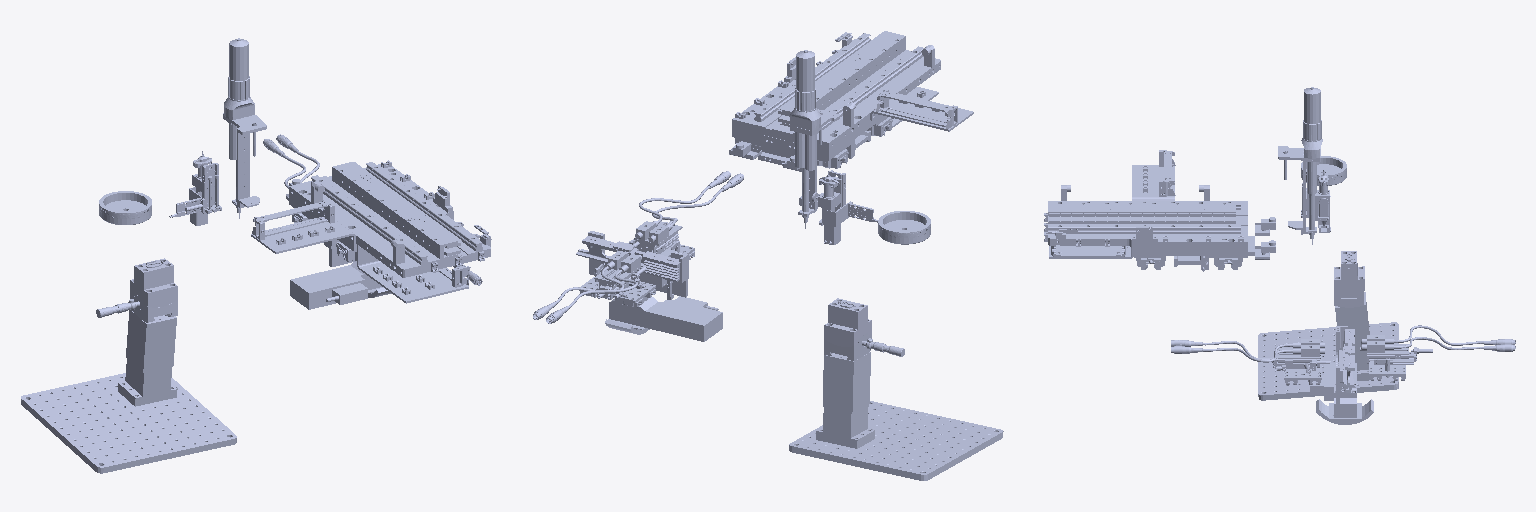
--- Facts derived from the render (not from the file) ---
The picture shows the robot from 3 angles, left to right: view 1: azimuth 30°, elevation 25°; view 2: azimuth 150°, elevation 25°; view 3: azimuth 270°, elevation 25°; orthographic projection.
Robot: roboter_zusammenbau — 27 links, 26 joints (5 revolute, 11 prismatic, 10 fixed); root link world; default pose: every joint at zero.
Visible links, largest first — view 1: X_Axis, Gonio_Base_Rigth, EQ, Gonio_Left_Stage_1_Upper, Gripper_Rot_Plate, Nest, Glue_Cartridge, Gonio_Right_Stage_1_Upper, Glue_Cartridge_Flap, UV_Module_Left; view 2: X_Axis, Gonio_Base_Rigth, EQ, Gonio_Left_Stage_1_Upper, UV_Module_Right, UV_Module_Left, Gonio_Right_Mount_Upper, Gripper_Rot_Plate, Nest, Gonio_Right_Mount_Lower, UV_Cart_Left, Glue_Cartridge_Flap (+3 smaller); view 3: X_Axis, Gonio_Base_Rigth, EQ, Gonio_Left_Stage_1_Upper, UV_Module_Left, UV_Module_Right, UV_Cart_Left, UV_Cart_Right, Nest, Gonio_Right_Mount_Lower, Gripper_Rot_Plate, Glue_Cartridge (+2 smaller).
Boxes of the visible links, x1,y1,x2,y2 form: X_Axis: [251, 160, 491, 303]; Gonio_Base_Rigth: [21, 310, 236, 473]; EQ: [223, 38, 266, 218]; Gonio_Left_Stage_1_Upper: [290, 261, 391, 309]; Gripper_Rot_Plate: [99, 191, 151, 224]; Nest: [130, 258, 177, 299]; Glue_Cartridge: [192, 151, 221, 213]; Gonio_Right_Stage_1_Upper: [96, 293, 177, 322]; Glue_Cartridge_Flap: [169, 187, 207, 225]; UV_Module_Left: [263, 134, 319, 188]; X_Axis: [729, 31, 973, 171]; Gonio_Base_Rigth: [789, 352, 1003, 480]; EQ: [790, 50, 839, 228]; Gonio_Left_Stage_1_Upper: [605, 296, 722, 341]; UV_Module_Right: [635, 171, 743, 252]; UV_Module_Left: [533, 251, 641, 323]; Gonio_Right_Mount_Upper: [576, 236, 680, 299]; Gripper_Rot_Plate: [878, 211, 930, 244]; Nest: [824, 298, 871, 338]; Gonio_Right_Mount_Lower: [588, 231, 688, 304]; UV_Cart_Left: [580, 264, 655, 307]; Glue_Cartridge_Flap: [824, 201, 877, 244]; X_Axis: [1044, 150, 1275, 271]; Gonio_Base_Rigth: [1258, 292, 1398, 400]; EQ: [1278, 87, 1322, 244]; Gonio_Left_Stage_1_Upper: [1310, 363, 1373, 424]; UV_Module_Left: [1361, 325, 1515, 363]; UV_Module_Right: [1171, 339, 1324, 367]; UV_Cart_Left: [1360, 347, 1432, 380]; UV_Cart_Right: [1258, 354, 1330, 384]; Nest: [1334, 251, 1364, 285]; Gonio_Right_Mount_Lower: [1334, 326, 1356, 404]; Gripper_Rot_Plate: [1301, 156, 1346, 185]; Glue_Cartridge: [1301, 170, 1330, 225].
Size in the robot's own frame: 0.8148 by 1 by 0.7671 metres.
17 mesh visuals loaded from 26 distinct referenced files (17 binary STL); not drawn: 9 (reference not matched to a file when rendering).

URDF robot description (roboter_zusammenbau):
<?xml version="1.0" encoding="utf-8"?>
<!-- This URDF was automatically created by SolidWorks to URDF Exporter! Originally created by Stephen Brawner ([email redacted]) 
     Commit Version: 1.6.0-1-g15f4949  Build Version: 1.6.7594.29634
     For more information, please see http://wiki.ros.org/sw_urdf_exporter -->
<robot
  name="roboter_zusammenbau">

  <link name="world">
  </link>
  
  <joint name="world_joint" type="fixed">
    <parent link="world"/>
    <child link="base_link"/>
    <origin
      xyz="0 0 0"
      rpy="0 0 0" />
  </joint>

  <link
    name="base_link">
    <inertial>
      <origin
        xyz="0.625821801363778 0.570133136306886 0.131114542394431"
        rpy="0 0 0" />
      <mass
        value="185.737269065976" />
      <inertia
        ixx="17.6891686329467"
        ixy="-0.000553953906476897"
        ixz="2.11795920498383E-05"
        iyy="19.5856182457273"
        iyz="0.00180194516552894"
        izz="36.6182068946149" />
    </inertial>
    <visual>
      <origin
        xyz="0 0 0"
        rpy="0 0 0" />
      <geometry>
        <mesh
          filename="package://roboter_zusammenbau/meshes/base_link.STL" />
      </geometry>
      <material
        name="">
        <color
          rgba="0.792156862745098 0.819607843137255 0.933333333333333 1" />
      </material>
    </visual>
    <collision>
      <origin
        xyz="0 0 0"
        rpy="0 0 0" />
      <geometry>
        <mesh
          filename="package://roboter_zusammenbau/meshes/base_link.STL" />
      </geometry>
    </collision>
  </link>
  <link
    name="X_Axis">
    <inertial>
      <origin
        xyz="0.16919895741484 -0.139025494621401 0.0270399805740182"
        rpy="0 0 0" />
      <mass
        value="3.40836170630821" />
      <inertia
        ixx="0.0248404376541355"
        ixy="-0.000748520694827292"
        ixz="6.13257340524014E-06"
        iyy="0.0088330828502041"
        iyz="-2.4288100595453E-05"
        izz="0.0333342630400324" />
    </inertial>
    <visual>
      <origin
        xyz="0 0 0"
        rpy="0 0 0" />
      <geometry>
        <mesh
          filename="package://roboter_zusammenbau/meshes/X_Axis.STL" />
      </geometry>
      <material
        name="">
        <color
          rgba="0.792156862745098 0.819607843137255 0.933333333333333 1" />
      </material>
    </visual>
    <collision>
      <origin
        xyz="0 0 0"
        rpy="0 0 0" />
      <geometry>
        <mesh
          filename="package://roboter_zusammenbau/meshes/X_Axis.STL" />
      </geometry>
    </collision>
  </link>
  <joint
    name="X_Axis_Joint"
    type="prismatic">
    <origin
      xyz="0.19 0.5545 0.56"
      rpy="0 0 0" />
    <parent
      link="base_link" />
    <child
      link="X_Axis" />
    <axis
      xyz="-1 0 0" />
    <limit
      lower="-0.745"
      upper="0.055"
      effort="100"
      velocity="0.05" />
  </joint>
  <link
    name="Y_Axis">
    <inertial>
      <origin
        xyz="0.0644731605204091 0.335953761487189 0.0959734258135516"
        rpy="0 0 0" />
      <mass
        value="5.14878388645621" />
      <inertia
        ixx="0.0689971056038874"
        ixy="-5.48415730832886E-06"
        ixz="0.000161589759460467"
        iyy="0.0347519976611458"
        iyz="-0.00648361648669565"
        izz="0.0562521130143104" />
    </inertial>
    <visual>
      <origin
        xyz="0 0 0"
        rpy="0 0 0" />
      <geometry>
        <mesh
          filename="package://roboter_zusammenbau/meshes/Y_Axis.STL" />
      </geometry>
      <material
        name="">
        <color
          rgba="0.792156862745098 0.819607843137255 0.933333333333333 1" />
      </material>
    </visual>
    <collision>
      <origin
        xyz="0 0 0"
        rpy="0 0 0" />
      <geometry>
        <mesh
          filename="package://roboter_zusammenbau/meshes/Y_Axis.STL" />
      </geometry>
    </collision>
  </link>
  <joint
    name="Y_Axis_Joint"
    type="prismatic">
    <origin
      xyz="0.1115 -0.39197 0.0625"
      rpy="0 0 0" />
    <parent
      link="X_Axis" />
    <child
      link="Y_Axis" />
    <axis
      xyz="0 -1 0" />
    <limit
      lower="-0.425"
      upper="0.2505"
      effort="100"
      velocity="0.05" />
  </joint>
  <link
    name="Z_Axis">
    <inertial>
      <origin
        xyz="0.0559367655146915 0.0443072297759754 -0.273189000382012"
        rpy="0 0 0" />
      <mass
        value="2.98745986427534" />
      <inertia
        ixx="0.0172466701344397"
        ixy="-1.43155994554038E-05"
        ixz="0.000234826510357996"
        iyy="0.0221649939209753"
        iyz="9.07350690414311E-05"
        izz="0.00613325660637595" />
    </inertial>
    <visual>
      <origin
        xyz="0 0 0"
        rpy="0 0 0" />
      <geometry>
        <mesh
          filename="package://roboter_zusammenbau/meshes/Z_Axis.STL" />
      </geometry>
      <material
        name="">
        <color
          rgba="0.792156862745098 0.819607843137255 0.933333333333333 1" />
      </material>
    </visual>
    <collision>
      <origin
        xyz="0 0 0"
        rpy="0 0 0" />
      <geometry>
        <mesh
          filename="package://roboter_zusammenbau/meshes/Z_Axis.STL" />
      </geometry>
    </collision>
  </link>
  <!---Gravity off-->
  <gazebo reference="Z_Axis">
    <turnGravityOff>true</turnGravityOff>
  </gazebo>
  <joint
    name="Z_Axis_Joint"
    type="prismatic">
    <origin
      xyz="-0.001 0.4962 0.28252"
      rpy="0 0 0" />
    <parent
      link="Y_Axis" />
    <child
      link="Z_Axis" />
    <axis
      xyz="0 0 -1" />
    <limit
      lower="-0.05262"
      upper="0.045"
      effort="100"
      velocity="0.5" />
  </joint>
  <link
    name="Gripper_Rot_Plate">
    <inertial>
      <origin
        xyz="2.01033481528334E-07 1.77069260361845E-07 -0.01642207657229"
        rpy="0 0 0" />
      <mass
        value="0.11029725831735" />
      <inertia
        ixx="8.79764941917046E-05"
        ixy="-1.83626185446397E-10"
        ixz="-1.48320232373882E-10"
        iyy="8.79759415900841E-05"
        iyz="-1.27560287248564E-10"
        izz="0.000165659871028386" />
    </inertial>
    <visual>
      <origin
        xyz="0 0 0"
        rpy="0 0 0" />
      <geometry>
        <mesh
          filename="package://roboter_zusammenbau/meshes/Gripper_Rot_Plate.STL" />
      </geometry>
      <material
        name="">
        <color
          rgba="0.792156862745098 0.819607843137255 0.933333333333333 1" />
      </material>
    </visual>
    <collision>
      <origin
        xyz="0 0 0"
        rpy="0 0 0" />
      <geometry>
        <mesh
          filename="package://roboter_zusammenbau/meshes/Gripper_Rot_Plate.STL" />
      </geometry>
    </collision>
  </link>
  <!---Gravity off-->
  <gazebo reference="Gripper_Rot_Plate">
    <turnGravityOff>true</turnGravityOff>
  </gazebo>
  <joint
    name="Gripper_Rot_Plate_Joint"
    type="revolute">
    <origin
      xyz="0.00750000000000206 0.0900000062570289 -0.337000000000001"
      rpy="0 0 0" />
    <parent
      link="Z_Axis" />
    <child
      link="Gripper_Rot_Plate" />
    <axis
      xyz="0 0 1" />
    <limit
      lower="0"
      upper="3.14"
      effort="100"
      velocity="0.1" />
  </joint>
  <link
    name="Gripper">
    <inertial>
      <origin
        xyz="0.000135108807628959 -1.05111383998935E-05 -0.0292448632131204"
        rpy="0 0 0" />
      <mass
        value="0.127647896986229" />
      <inertia
        ixx="2.5142711578718E-05"
        ixy="-1.59474432850184E-08"
        ixz="3.35250198835353E-09"
        iyy="2.54173373628528E-05"
        iyz="4.55516572822246E-10"
        izz="4.13581383274998E-05" />
    </inertial>
    <visual>
      <origin
        xyz="0 0 0"
        rpy="0 0 0" />
      <geometry>
        <mesh
          filename="package://roboter_zusammenbau/meshes/Gripper.STL" />
      </geometry>
      <material
        name="">
        <color
          rgba="0.792156862745098 0.819607843137255 0.933333333333333 1" />
      </material>
    </visual>
    <collision>
      <origin
        xyz="0 0 0"
        rpy="0 0 0" />
      <geometry>
        <mesh
          filename="package://roboter_zusammenbau/meshes/Gripper.STL" />
      </geometry>
    </collision>
  </link>
  <!---Gravity off-->
  <gazebo reference="Gripper">
    <turnGravityOff>true</turnGravityOff>
  </gazebo>
  <joint
    name="Gripper_Joint"
    type="fixed">
    <origin
      xyz="0 0 -0.0255"
      rpy="0 0 0" />
    <parent
      link="Gripper_Rot_Plate" />
    <child
      link="Gripper" />
    <axis
      xyz="0 0 0" />
  </joint>
  <link
    name="Glue_Cartridge_Flap">
    <inertial>
      <origin
        xyz="0.0700781843320345 0.0170691077164344 -0.0129807443134489"
        rpy="0 0 0" />
      <mass
        value="0.0179277924431147" />
      <inertia
        ixx="4.17419773394052E-06"
        ixy="1.29835566651963E-07"
        ixz="-6.29537316660302E-08"
        iyy="5.03325262650482E-06"
        iyz="-9.02306176061517E-09"
        izz="4.1188843203633E-06" />
    </inertial>
    <visual>
      <origin
        xyz="0 0 0"
        rpy="0 0 0" />
      <geometry>
        <mesh
          filename="package://roboter_zusammenbau/meshes/Glue_Cartridge_Flap.STL" />
      </geometry>
      <material
        name="">
        <color
          rgba="0.792156862745098 0.819607843137255 0.933333333333333 1" />
      </material>
    </visual>
    <collision>
      <origin
        xyz="0 0 0"
        rpy="0 0 0" />
      <geometry>
        <mesh
          filename="package://roboter_zusammenbau/meshes/Glue_Cartridge_Flap.STL" />
      </geometry>
    </collision>
  </link>
  <!---Gravity off-->
  <gazebo reference="Glue_Cartridge_Flap">
    <turnGravityOff>true</turnGravityOff>
  </gazebo>
  <joint
    name="Glue_Cartridge_Flap_Joint"
    type="prismatic">
    <origin
      xyz="0.075000000000002 0.0545000062570288 -0.360000000000001"
      rpy="0 0 0" />
    <parent
      link="Z_Axis" />
    <child
      link="Glue_Cartridge_Flap" />
    <axis
      xyz="-1 0 0" />
    <limit
      lower="0"
      upper="0.02"
      effort="100"
      velocity="0.05" />
  </joint>
  <link
    name="Glue_Cartridge">
    <inertial>
      <origin
        xyz="0.00252184437862241 0.0162311247980112 -0.090222805299254"
        rpy="0 0 0" />
      <mass
        value="0.072567178977958" />
      <inertia
        ixx="3.42933852016556E-05"
        ixy="-1.91967791645742E-07"
        ixz="5.62664387505565E-08"
        iyy="3.40475356596661E-05"
        iyz="-5.66364139855266E-07"
        izz="1.14639175050348E-05" />
    </inertial>
    <visual>
      <origin
        xyz="0 0 0"
        rpy="0 0 0" />
      <geometry>
        <mesh
          filename="package://roboter_zusammenbau/meshes/Glue_Cartridge.STL" />
      </geometry>
      <material
        name="">
        <color
          rgba="0.792156862745098 0.819607843137255 0.933333333333333 1" />
      </material>
    </visual>
    <collision>
      <origin
        xyz="0 0 0"
        rpy="0 0 0" />
      <geometry>
        <mesh
          filename="package://roboter_zusammenbau/meshes/Glue_Cartridge.STL" />
      </geometry>
    </collision>
  </link>
  <!---Gravity off-->
  <gazebo reference="Glue_Cartridge">
    <turnGravityOff>true</turnGravityOff>
  </gazebo>
  <joint
    name="Glue_Cartridge_Joint"
    type="prismatic">
    <origin
      xyz="0.1715 0.0582 -0.2855"
      rpy="0 0 0" />
    <parent
      link="Z_Axis" />
    <child
      link="Glue_Cartridge" />
    <axis
      xyz="0 0 1" />
    <limit
      lower="0"
      upper="0.04"
      effort="100"
      velocity="0.05" />
  </joint>
  <link
    name="EQ">
    <inertial>
      <origin
        xyz="-0.000295411016359548 0.0248543962427797 0.0574291260378252"
        rpy="0 0 0" />
      <mass
        value="0.398291319329287" />
      <inertia
        ixx="0.00156701563987073"
        ixy="-4.41604324049231E-06"
        ixz="9.92168040657407E-08"
        iyy="0.00155258685914303"
        iyz="1.49787524994665E-06"
        izz="0.000122318061840883" />
    </inertial>
    <visual>
      <origin
        xyz="0 0 0"
        rpy="0 0 0" />
      <geometry>
        <mesh
          filename="package://roboter_zusammenbau/meshes/EQ.STL" />
      </geometry>
      <material
        name="">
        <color
          rgba="0.792156862745098 0.819607843137255 0.933333333333333 1" />
      </material>
    </visual>
    <collision>
      <origin
        xyz="0 0 0"
        rpy="0 0 0" />
      <geometry>
        <mesh
          filename="package://roboter_zusammenbau/meshes/EQ.STL" />
      </geometry>
    </collision>
  </link>
  <!---Gravity off-->
  <gazebo reference="EQ">
    <turnGravityOff>true</turnGravityOff>
  </gazebo>
  <joint
    name="EQ_Joint"
    type="prismatic">
    <origin
      xyz="0.236500000000002 0.0322575758254203 -0.258000000000002"
      rpy="0 0 0" />
    <parent
      link="Z_Axis" />
    <child
      link="EQ" />
    <axis
      xyz="0 0 1" />
    <limit
      lower="-0.05109"
      upper="0"
      effort="100"
      velocity="0.05" />
  </joint>
  <link
    name="Test_Station">
    <inertial>
      <origin
        xyz="0.0375 0.109867595364853 0.143148862667039"
        rpy="0 0 0" />
      <mass
        value="1.39099524679326" />
      <inertia
        ixx="0.00780193904512034"
        ixy="-2.61716248057058E-14"
        ixz="-3.61572424102462E-21"
        iyy="0.00547600691976027"
        iyz="-9.87499782880815E-10"
        izz="0.00281708795214925" />
    </inertial>
    <visual>
      <origin
        xyz="0 0 0"
        rpy="0 0 0" />
      <geometry>
        <mesh
          filename="package://roboter_zusammenbau/meshes/Test_Station.STL" />
      </geometry>
      <material
        name="">
        <color
          rgba="0.792156862745098 0.819607843137255 0.933333333333333 1" />
      </material>
    </visual>
    <collision>
      <origin
        xyz="0 0 0"
        rpy="0 0 0" />
      <geometry>
        <mesh
          filename="package://roboter_zusammenbau/meshes/Test_Station.STL" />
      </geometry>
    </collision>
  </link>
  <joint
    name="Test_Station_Joint"
    type="fixed">
    <origin
      xyz="1.0625 0.6845 0.1"
      rpy="0 0 0" />
    <parent
      link="base_link" />
    <child
      link="Test_Station" />
    <axis
      xyz="0 0 0" />
  </joint>
  <link
    name="Gonio_Base_Rigth">
    <inertial>
      <origin
        xyz="-0.443310661236087 0.0330000000000467 -0.10131041089702"
        rpy="0 0 0" />
      <mass
        value="0.735149712395274" />
      <inertia
        ixx="0.00216091772202082"
        ixy="1.66756120275789E-18"
        ixz="2.02637515337738E-06"
        iyy="0.00218184071743384"
        iyz="8.52621696064458E-20"
        izz="0.000537837036237896" />
    </inertial>
    <visual>
      <origin
        xyz="0 0 0"
        rpy="0 0 0" />
      <geometry>
        <mesh
          filename="package://roboter_zusammenbau/meshes/Gonio_Base_Rigth.STL" />
      </geometry>
      <material
        name="">
        <color
          rgba="0.792156862745098 0.819607843137255 0.933333333333333 1" />
      </material>
    </visual>
    <collision>
      <origin
        xyz="0 0 0"
        rpy="0 0 0" />
      <geometry>
        <mesh
          filename="package://roboter_zusammenbau/meshes/Gonio_Base_Rigth.STL" />
      </geometry>
    </collision>
  </link>
  <joint
    name="Gonio_base_Rigth_Joint"
    type="fixed">
    <origin
      xyz="0.843436798933783 0.769499999999991 0.297531903269611"
      rpy="0 0.00124847209373138 0" />
    <parent
      link="base_link" />
    <child
      link="Gonio_Base_Rigth" />
    <axis
      xyz="0 0 0" />
  </joint>
  <link
    name="Stage_1_Gonio_Right">
    <inertial>
      <origin
        xyz="0.0450000285629691 0.0154464744552945 0.180028793226625"
        rpy="0 0 0" />
      <mass
        value="0.0706349432835735" />
      <inertia
        ixx="3.36962706733939E-05"
        ixy="-7.72258833183303E-11"
        ixz="-1.91981813462905E-11"
        iyy="1.8004068123271E-05"
        iyz="-1.39266767162838E-07"
        izz="4.86217530226209E-05" />
    </inertial>
    <visual>
      <origin
        xyz="0 0 0"
        rpy="0 0 0" />
      <geometry>
        <mesh
          filename="package://roboter_zusammenbau/meshes/Stage_1_Gonio_Right.STL" />
      </geometry>
      <material
        name="">
        <color
          rgba="0.792156862745098 0.819607843137255 0.933333333333333 1" />
      </material>
    </visual>
    <collision>
      <origin
        xyz="0 0 0"
        rpy="0 0 0" />
      <geometry>
        <mesh
          filename="package://roboter_zusammenbau/meshes/Stage_1_Gonio_Right.STL" />
      </geometry>
    </collision>
  </link>
  <joint
    name="Stage_1_Gonio_Right_Joint"
    type="fixed">
    <origin
      xyz="-0.488205660861556 0.00050000000005054 -0.185441558777103"
      rpy="0 -0.00124847209373138 0" />
    <parent
      link="Gonio_Base_Rigth" />
    <child
      link="Stage_1_Gonio_Right" />
    <axis
      xyz="0 0 0" />
  </joint>
  <link
    name="Gonio_Right_Stage_1_Upper">
    <inertial>
      <origin
        xyz="0.0236093552066096 0.000777611453360041 -0.07883096150979"
        rpy="0 0 0" />
      <mass
        value="0.135485840705969" />
      <inertia
        ixx="4.16210427703093E-05"
        ixy="1.17487642350012E-09"
        ixz="-1.10761881698597E-07"
        iyy="6.29240886667246E-05"
        iyz="-3.38034194495186E-07"
        izz="9.71875209897851E-05" />
    </inertial>
    <visual>
      <origin
        xyz="0 0 0"
        rpy="0 0 0" />
      <geometry>
        <mesh
          filename="package://roboter_zusammenbau/meshes/Gonio_Right_Stage_1_Upper.STL" />
      </geometry>
      <material
        name="">
        <color
          rgba="0.792156862745098 0.819607843137255 0.933333333333333 1" />
      </material>
    </visual>
    <collision>
      <origin
        xyz="0 0 0"
        rpy="0 0 0" />
      <geometry>
        <mesh
          filename="package://roboter_zusammenbau/meshes/Gonio_Right_Stage_1_Upper.STL" />
      </geometry>
    </collision>
  </link>
  <joint
    name="Gonio_Right_Stage_1_Upper_joint"
    type="revolute">
    <origin
      xyz="0.0125000000000001 0.0325000000000001 0.281999999999999"
      rpy="0 0 0" />
    <parent
      link="Stage_1_Gonio_Right" />
    <child
      link="Gonio_Right_Stage_1_Upper" />
    <axis
      xyz="1 0 0" />
    <limit
      lower="-0.087266"
      upper="0.087266"
      effort="100"
      velocity="0.01" />
  </joint>
  <link
    name="Gonio_Right_Stage_2_Upper">
    <inertial>
      <origin
        xyz="-6.53148646279078E-10 -0.0325000008448236 -0.0578599602398864"
        rpy="0 0 0" />
      <mass
        value="0.0546397592722759" />
      <inertia
        ixx="2.38958843339078E-05"
        ixy="-1.0219765031195E-11"
        ixz="8.98389909344655E-13"
        iyy="1.83573881738552E-05"
        iyz="-3.15839883014258E-13"
        izz="3.93608769988889E-05" />
    </inertial>
    <visual>
      <origin
        xyz="0 0 0"
        rpy="0 0 0" />
      <geometry>
        <mesh
          filename="package://roboter_zusammenbau/meshes/Gonio_Right_Stage_2_Upper.STL" />
      </geometry>
      <material
        name="">
        <color
          rgba="0.792156862745098 0.819607843137255 0.933333333333333 1" />
      </material>
    </visual>
    <collision>
      <origin
        xyz="0 0 0"
        rpy="0 0 0" />
      <geometry>
        <mesh
          filename="package://roboter_zusammenbau/meshes/Gonio_Right_Stage_2_Upper.STL" />
      </geometry>
    </collision>
  </link>
  <joint
    name="Gonio_Right_Stage_2_Upper_Joint"
    type="revolute">
    <origin
      xyz="0.0325 0.0324984184257152 0.000320624121260105"
      rpy="0.00986554689296988 0.00243647716593582 2.40379358152113E-05" />
    <parent
      link="Gonio_Right_Stage_1_Upper" />
    <child
      link="Gonio_Right_Stage_2_Upper" />
    <axis
      xyz="0 -1 0" />
    <limit
      lower="-0.17453"
      upper="0.17453"
      effort="100"
      velocity="0.01" />
  </joint>
  <link
    name="Nest">
    <inertial>
      <origin
        xyz="0.032450872460221 0.0324929107955899 0.0216564841431486"
        rpy="0 0 0" />
      <mass
        value="0.133934804260549" />
      <inertia
        ixx="3.05433990945617E-05"
        ixy="-2.55507778379188E-10"
        ixz="-1.74866992826515E-08"
        iyy="4.8078789038224E-05"
        iyz="2.24246440407081E-09"
        izz="7.18729232272563E-05" />
    </inertial>
    <visual>
      <origin
        xyz="0 0 0"
        rpy="0 0 0" />
      <geometry>
        <mesh
          filename="package://roboter_zusammenbau/meshes/Nest.STL" />
      </geometry>
      <material
        name="">
        <color
          rgba="0.792156862745098 0.819607843137255 0.933333333333333 1" />
      </material>
    </visual>
    <collision>
      <origin
        xyz="0 0 0"
        rpy="0 0 0" />
      <geometry>
        <mesh
          filename="package://roboter_zusammenbau/meshes/Nest.STL" />
      </geometry>
    </collision>
  </link>
  <joint
    name="Nest_Joint"
    type="fixed">
    <origin
      xyz="-0.0324999999999999 -0.065 -0.0499999999999998"
      rpy="0 0 0" />
    <parent
      link="Gonio_Right_Stage_2_Upper" />
    <child
      link="Nest" />
    <axis
      xyz="0 0 0" />
  </joint>
  <link
    name="Camera_System">
    <inertial>
      <origin
        xyz="0.0505028321627497 0.194735930802516 0.146786757354195"
        rpy="0 0 0" />
      <mass
        value="2.8858378823955" />
      <inertia
        ixx="0.0184869737843273"
        ixy="1.26297079346321E-05"
        ixz="3.42211569734802E-06"
        iyy="0.0045547035395917"
        iyz="-9.47292848293822E-05"
        izz="0.0194720270517019" />
    </inertial>
    <visual>
      <origin
        xyz="0 0 0"
        rpy="0 0 0" />
      <geometry>
        <mesh
          filename="package://roboter_zusammenbau/meshes/Camera_System.STL" />
      </geometry>
      <material
        name="">
        <color
          rgba="0.792156862745098 0.819607843137255 0.933333333333333 1" />
      </material>
    </visual>
    <collision>
      <origin
        xyz="0 0 0"
        rpy="0 0 0" />
      <geometry>
        <mesh
          filename="package://roboter_zusammenbau/meshes/Camera_System.STL" />
      </geometry>
    </collision>
  </link>
  <joint
    name="Camera_System_Joint"
    type="fixed">
    <origin
      xyz="0.6025 0.5075 0.1"
      rpy="0 0 0" />
    <parent
      link="base_link" />
    <child
      link="Camera_System" />
    <axis
      xyz="0 0 0" />
  </joint>
  <link
    name="Camera_Calibration">
    <inertial>
      <origin
        xyz="-2.23806848806962E-05 -0.0716494371536874 0.0040939089037404"
        rpy="0 0 0" />
      <mass
        value="0.0326858647412389" />
      <inertia
        ixx="2.04982158767326E-05"
        ixy="-1.61006130053567E-08"
        ixz="3.66083708051192E-11"
        iyy="2.64269352598525E-06"
        iyz="-4.64472618194221E-07"
        izz="2.23690961977999E-05" />
    </inertial>
    <visual>
      <origin
        xyz="0 0 0"
        rpy="0 0 0" />
      <geometry>
        <mesh
          filename="package://roboter_zusammenbau/meshes/Camera_Calibration.STL" />
      </geometry>
      <material
        name="">
        <color
          rgba="0.792156862745098 0.819607843137255 0.933333333333333 1" />
      </material>
    </visual>
    <collision>
      <origin
        xyz="0 0 0"
        rpy="0 0 0" />
      <geometry>
        <mesh
          filename="package://roboter_zusammenbau/meshes/Camera_Calibration.STL" />
      </geometry>
    </collision>
  </link>
  <joint
    name="Camera_Calibartion_Joint"
    type="prismatic">
    <origin
      xyz="0.065 0.4615 0.293"
      rpy="0 0 0" />
    <parent
      link="Camera_System" />
    <child
      link="Camera_Calibration" />
    <axis
      xyz="0 1 0" />
    <limit
      lower="-0.04"
      upper="0.0"
      effort="100"
      velocity="0.05" />
  </joint>
  <link
    name="Gonio_Base_Left">
    <inertial>
      <origin
        xyz="0.126941450046363 0.123518998015631 0.100678856473502"
        rpy="0 0 0" />
      <mass
        value="4.82459847582554" />
      <inertia
        ixx="0.011510655159352"
        ixy="-3.33565784736191E-05"
        ixz="1.45496624991337E-06"
        iyy="0.0188665286335149"
        iyz="2.60234058906314E-05"
        izz="0.0269849279870219" />
    </inertial>
    <visual>
      <origin
        xyz="0 0 0"
        rpy="0 0 0" />
      <geometry>
        <mesh
          filename="package://roboter_zusammenbau/meshes/Gonio_Base_Left.STL" />
      </geometry>
      <material
        name="">
        <color
          rgba="0.792156862745098 0.819607843137255 0.933333333333333 1" />
      </material>
    </visual>
    <collision>
      <origin
        xyz="0 0 0"
        rpy="0 0 0" />
      <geometry>
        <mesh
          filename="package://roboter_zusammenbau/meshes/Gonio_Base_Left.STL" />
      </geometry>
    </collision>
  </link>
  <joint
    name="Gonio_Base_Left_Joint"
    type="fixed">
    <origin
      xyz="0.752500000000035 0.684500000000037 0.100000000000003"
      rpy="0 0 0" />
    <parent
      link="base_link" />
    <child
      link="Gonio_Base_Left" />
    <axis
      xyz="0 0 0" />
  </joint>
  <link
    name="Gonio_Left_Stage_1_Upper">
    <inertial>
      <origin
        xyz="-0.0997824878967629 -0.00877925652714914 -0.0446785627316291"
        rpy="0 0 0" />
      <mass
        value="0.578798857286943" />
      <inertia
        ixx="0.000400478324367352"
        ixy="-0.000129239522587823"
        ixz="-7.82346515363914E-07"
        iyy="0.00157904583991977"
        iyz="5.25968237719547E-06"
        izz="0.00188005175520343" />
    </inertial>
    <visual>
      <origin
        xyz="0 0 0"
        rpy="0 0 0" />
      <geometry>
        <mesh
          filename="package://roboter_zusammenbau/meshes/Gonio_Left_Stage_1_Upper.STL" />
      </geometry>
      <material
        name="">
        <color
          rgba="0.792156862745098 0.819607843137255 0.933333333333333 1" />
      </material>
    </visual>
    <collision>
      <origin
        xyz="0 0 0"
        rpy="0 0 0" />
      <geometry>
        <mesh
          filename="package://roboter_zusammenbau/meshes/Gonio_Left_Stage_1_Upper.STL" />
      </geometry>
    </collision>
  </link>
  <joint
    name="Gonio_Left_Stage_1_Upper_Joint"
    type="revolute">
    <origin
      xyz="0.156499999999957 0.109999999999947 0.212499999999997"
      rpy="0 0 0" />
    <parent
      link="Gonio_Base_Left" />
    <child
      link="Gonio_Left_Stage_1_Upper" />
    <axis
      xyz="1 0 0" />
    <limit
      lower="-0.78539816339745"
      upper="0.78539816339745"
      effort="100"
      velocity="0.01" />
  </joint>
  <link
    name="Gonio_Left_Stage_2_Upper">
    <inertial>
      <origin
        xyz="-2.64677118601286E-05 -0.0250000000001234 -0.0212004406894863"
        rpy="0 0 0" />
      <mass
        value="0.0270626702476323" />
      <inertia
        ixx="6.08759497527378E-06"
        ixy="4.08430684508571E-14"
        ixz="4.39226594546324E-09"
        iyy="4.36785275766636E-06"
        iyz="-1.45383292013094E-16"
        izz="9.60639482996178E-06" />
    </inertial>
    <visual>
      <origin
        xyz="0 0 0"
        rpy="0 0 0" />
      <geometry>
        <mesh
          filename="package://roboter_zusammenbau/meshes/Gonio_Left_Stage_2_Upper.STL" />
      </geometry>
      <material
        name="">
        <color
          rgba="0.792156862745098 0.819607843137255 0.933333333333333 1" />
      </material>
    </visual>
    <collision>
      <origin
        xyz="0 0 0"
        rpy="0 0 0" />
      <geometry>
        <mesh
          filename="package://roboter_zusammenbau/meshes/Gonio_Left_Stage_2_Upper.STL" />
      </geometry>
    </collision>
  </link>
  <joint
    name="Gonio_Left_Stage_2_Upper_Joint"
    type="revolute">
    <origin
      xyz="-0.04 0.025 0"
      rpy="0 0 0" />
    <parent
      link="Gonio_Left_Stage_1_Upper" />
    <child
      link="Gonio_Left_Stage_2_Upper" />
    <axis
      xyz="0 -1 0" />
    <limit
      lower="-0.78539816339745"
      upper="0.78539816339745"
      effort="100"
      velocity="0.01" />
  </joint>
  <link
    name="Gonio_Right_Mount_Lower">
    <inertial>
      <origin
        xyz="0.0162416232097771 0.0179266836523483 0.0446054201820039"
        rpy="0 0 0" />
      <mass
        value="0.193859196114997" />
      <inertia
        ixx="6.6965131704231E-05"
        ixy="1.79270793281868E-07"
        ixz="9.94006466314354E-07"
        iyy="0.000515179692751325"
        iyz="1.1170065098574E-06"
        izz="0.000471145863687032" />
    </inertial>
    <visual>
      <origin
        xyz="0 0 0"
        rpy="0 0 0" />
      <geometry>
        <mesh
          filename="package://roboter_zusammenbau/meshes/Gonio_Right_Mount_Lower.STL" />
      </geometry>
      <material
        name="">
        <color
          rgba="0.792156862745098 0.819607843137255 0.933333333333333 1" />
      </material>
    </visual>
    <collision>
      <origin
        xyz="0 0 0"
        rpy="0 0 0" />
      <geometry>
        <mesh
          filename="package://roboter_zusammenbau/meshes/Gonio_Right_Mount_Lower.STL" />
      </geometry>
    </collision>
  </link>
<joint
    name="Gonio_Right_Mount_Lower_joint"
    type="fixed">
    <origin
      xyz="-0.0255632010662045 -0.05 -0.0149680967303876"
      rpy="0 0.00124847209372143 0" />
    <parent
      link="Gonio_Left_Stage_2_Upper" />
    <child
      link="Gonio_Right_Mount_Lower" />
    <axis
      xyz="0 0 0" />
  </joint>
  <link
    name="Gonio_Right_Mount_Upper">
    <inertial>
      <origin
        xyz="0.0138876332089552 0.0253601886212102 0.0864002192139908"
        rpy="0 0 0" />
      <mass
        value="0.0762325967846099" />
      <inertia
        ixx="1.37177472529419E-05"
        ixy="-1.46120092158232E-07"
        ixz="-6.17955623619177E-07"
        iyy="0.000262744933743385"
        iyz="8.65502713401381E-08"
        izz="0.000253259614960968" />
    </inertial>
    <visual>
      <origin
        xyz="0 0 0"
        rpy="0 0 0" />
      <geometry>
        <mesh
          filename="package://roboter_zusammenbau/meshes/Gonio_Right_Mount_Upper.STL" />
      </geometry>
      <material
        name="">
        <color
          rgba="0.792156862745098 0.819607843137255 0.933333333333333 1" />
      </material>
    </visual>
    <collision>
      <origin
        xyz="0 0 0"
        rpy="0 0 0" />
      <geometry>
        <mesh
          filename="package://roboter_zusammenbau/meshes/Gonio_Right_Mount_Upper.STL" />
      </geometry>
    </collision>
  </link>
  <joint
    name="Gonio_Right_Mount_Upper_Joint"
    type="fixed">
    <origin
      xyz="0.000544493897539577 0 0"
      rpy="0 -0.00124847209372143 0" />
    <parent
      link="Gonio_Right_Mount_Lower" />
    <child
      link="Gonio_Right_Mount_Upper" />
    <axis
      xyz="0 0 0" />
  </joint>
  <link
    name="UV_Cart_Left">
    <inertial>
      <origin
        xyz="0.0914013664141523 -0.0253104400331259 0.0106949485904511"
        rpy="0 0 0" />
      <mass
        value="0.127959263611525" />
      <inertia
        ixx="5.21591452075978E-05"
        ixy="6.2038344111712E-08"
        ixz="-1.12100819961442E-07"
        iyy="6.05583187276662E-05"
        iyz="5.2056206691589E-08"
        izz="0.0001087127585747" />
    </inertial>
    <visual>
      <origin
        xyz="0 0 0"
        rpy="0 0 0" />
      <geometry>
        <mesh
          filename="package://roboter_zusammenbau/meshes/UV_Cart_Left.STL" />
      </geometry>
      <material
        name="">
        <color
          rgba="0.792156862745098 0.819607843137255 0.933333333333333 1" />
      </material>
    </visual>
    <collision>
      <origin
        xyz="0 0 0"
        rpy="0 0 0" />
      <geometry>
        <mesh
          filename="package://roboter_zusammenbau/meshes/UV_Cart_Left.STL" />
      </geometry>
    </collision>
  </link>
  <joint
    name="UV_Cart_Left_Joint"
    type="prismatic">
    <origin
      xyz="0.0065 0.23118 0.2526"
      rpy="0 0 0" />
    <parent
      link="Gonio_Base_Left" />
    <child
      link="UV_Cart_Left" />
    <axis
      xyz="-1 0 0" />
    <limit
      lower="0"
      upper="0.1"
      effort="100"
      velocity="0.05" />
  </joint>
  <link
    name="UV_Module_Left">
    <inertial>
      <origin
        xyz="-0.00149625704775685 -0.0146282010974796 0.0150907885908844"
        rpy="0 0 0" />
      <mass
        value="0.119915229322348" />
      <inertia
        ixx="8.58688560134319E-05"
        ixy="-9.33412693374113E-06"
        ixz="-2.12947224034943E-07"
        iyy="1.98652847972194E-05"
        iyz="-9.66953808948402E-07"
        izz="0.000101234986556127" />
    </inertial>
    <visual>
      <origin
        xyz="0 0 0"
        rpy="0 0 0" />
      <geometry>
        <mesh
          filename="package://roboter_zusammenbau/meshes/UV_Module_Left.STL" />
      </geometry>
      <material
        name="">
        <color
          rgba="0.792156862745098 0.819607843137255 0.933333333333333 1" />
      </material>
    </visual>
    <collision>
      <origin
        xyz="0 0 0"
        rpy="0 0 0" />
      <geometry>
        <mesh
          filename="package://roboter_zusammenbau/meshes/UV_Module_Left.STL" />
      </geometry>
    </collision>
  </link>
  <joint
    name="UV_Module_Left_Joint"
    type="prismatic">
    <origin
      xyz="0.092383 0.02382 0.0276"
      rpy="0 0 0" />
    <parent
      link="UV_Cart_Left" />
    <child
      link="UV_Module_Left" />
    <axis
      xyz="0 1 0" />
    <limit
      lower="0"
      upper="0.05"
      effort="100"
      velocity="0.05" />
  </joint>
  <link
    name="UV_Cart_Right">
    <inertial>
      <origin
        xyz="0.113531365594026 -0.0370495599671551 0.010694948590817"
        rpy="0 0 0" />
      <mass
        value="0.127959263608561" />
      <inertia
        ixx="5.21591452072933E-05"
        ixy="6.20383442929791E-08"
        ixz="1.1210082015652E-07"
        iyy="6.05583187273427E-05"
        iyz="-5.20562070043966E-08"
        izz="0.000108712758574227" />
    </inertial>
    <visual>
      <origin
        xyz="0 0 0"
        rpy="0 0 0" />
      <geometry>
        <mesh
          filename="package://roboter_zusammenbau/meshes/UV_Cart_Right.STL" />
      </geometry>
      <material
        name="">
        <color
          rgba="0.792156862745098 0.819607843137255 0.933333333333333 1" />
      </material>
    </visual>
    <collision>
      <origin
        xyz="0 0 0"
        rpy="0 0 0" />
      <geometry>
        <mesh
          filename="package://roboter_zusammenbau/meshes/UV_Cart_Right.STL" />
      </geometry>
    </collision>
  </link>
  <joint
    name="UV_Cart_Right_Joint"
    type="prismatic">
    <origin
      xyz="0.0065 0.05118 0.2526"
      rpy="0 0 0" />
    <parent
      link="Gonio_Base_Left" />
    <child
      link="UV_Cart_Right" />
    <axis
      xyz="1 0 0" />
    <limit
      lower="0"
      upper="0.1"
      effort="0.05"
      velocity="100" />
  </joint>
  <link
    name="UV_Module_Right">
    <inertial>
      <origin
        xyz="0.00149625705795903 0.00585466541612358 0.0150907885908853"
        rpy="0 0 0" />
      <mass
        value="0.119915229322348" />
      <inertia
        ixx="8.58688560134322E-05"
        ixy="-9.33412693374157E-06"
        ixz="2.12947224034949E-07"
        iyy="1.98652847972198E-05"
        iyz="9.6695380894845E-07"
        izz="0.000101234986556127" />
    </inertial>
    <visual>
      <origin
        xyz="0 0 0"
        rpy="0 0 0" />
      <geometry>
        <mesh
          filename="package://roboter_zusammenbau/meshes/UV_Module_Right.STL" />
      </geometry>
      <material
        name="">
        <color
          rgba="0.792156862745098 0.819607843137255 0.933333333333333 1" />
      </material>
    </visual>
    <collision>
      <origin
        xyz="0 0 0"
        rpy="0 0 0" />
      <geometry>
        <mesh
          filename="package://roboter_zusammenbau/meshes/UV_Module_Right.STL" />
      </geometry>
    </collision>
  </link>
  <joint
    name="UV_Module_Right_Joint"
    type="prismatic">
    <origin
      xyz="0.11255 -0.08618 0.0276"
      rpy="0 0 0" />
    <parent
      link="UV_Cart_Right" />
    <child
      link="UV_Module_Right" />
    <axis
      xyz="0 -1 0" />
    <limit
      lower="0"
      upper="0.05"
      effort="100"
      velocity="0.05" />
  </joint>
</robot>
